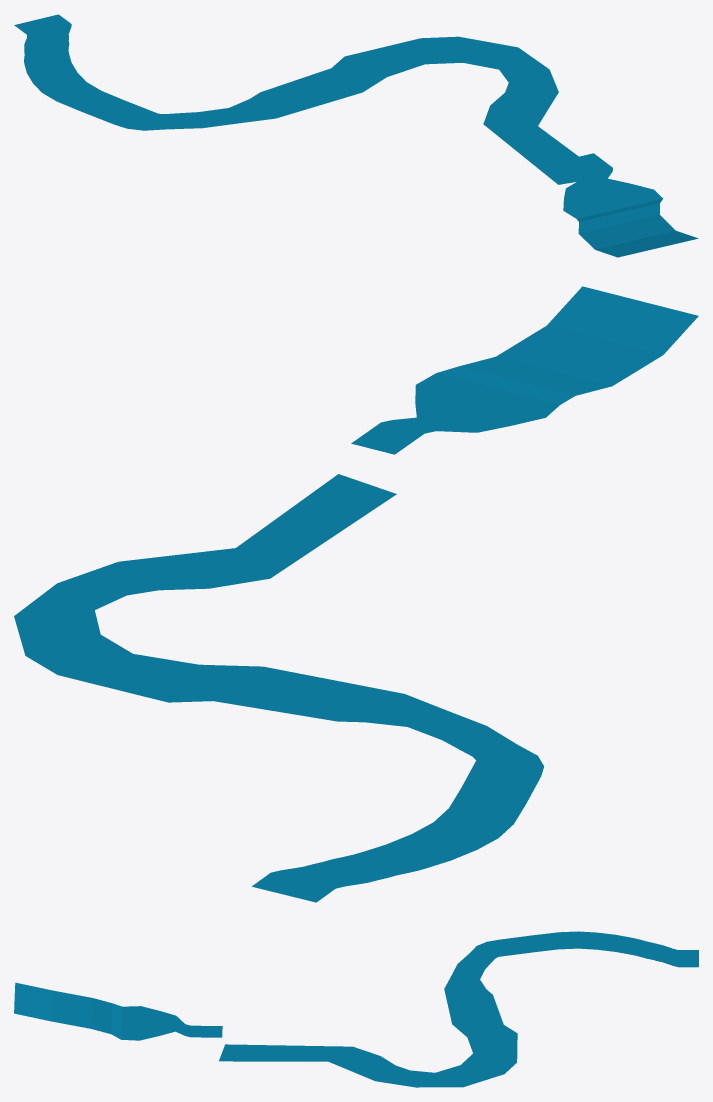
The model's file is watermesh.fbx.
3 renders of one model, top to bottom at view 1: azimuth 30°, elevation 25°; view 2: azimuth 150°, elevation 25°; view 3: azimuth 270°, elevation 25°, orthographic. The views are drawn at different scales.
Visible parts, largest first — view 1: pPlane1, pPlane2; view 2: pPlane1, pPlane2; view 3: pPlane1, pPlane2.
Boxes of the visible parts, x1,y1,x2,y2 form: pPlane1: [14, 14, 582, 184]; pPlane2: [563, 153, 698, 257]; pPlane1: [14, 474, 543, 902]; pPlane2: [351, 286, 698, 454]; pPlane1: [219, 931, 698, 1087]; pPlane2: [14, 982, 222, 1040].
Size of the model in its own units: 135 by 13.58 by 251.
